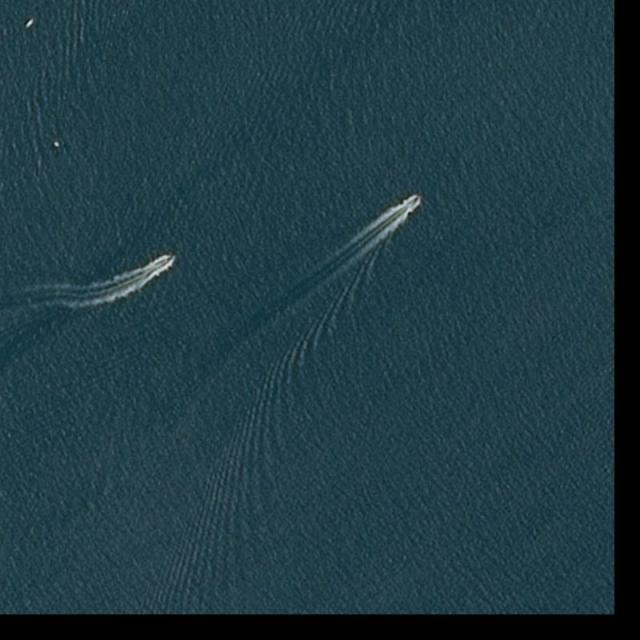ship: (23, 18, 36, 30), (164, 254, 178, 264), (412, 194, 422, 205)
